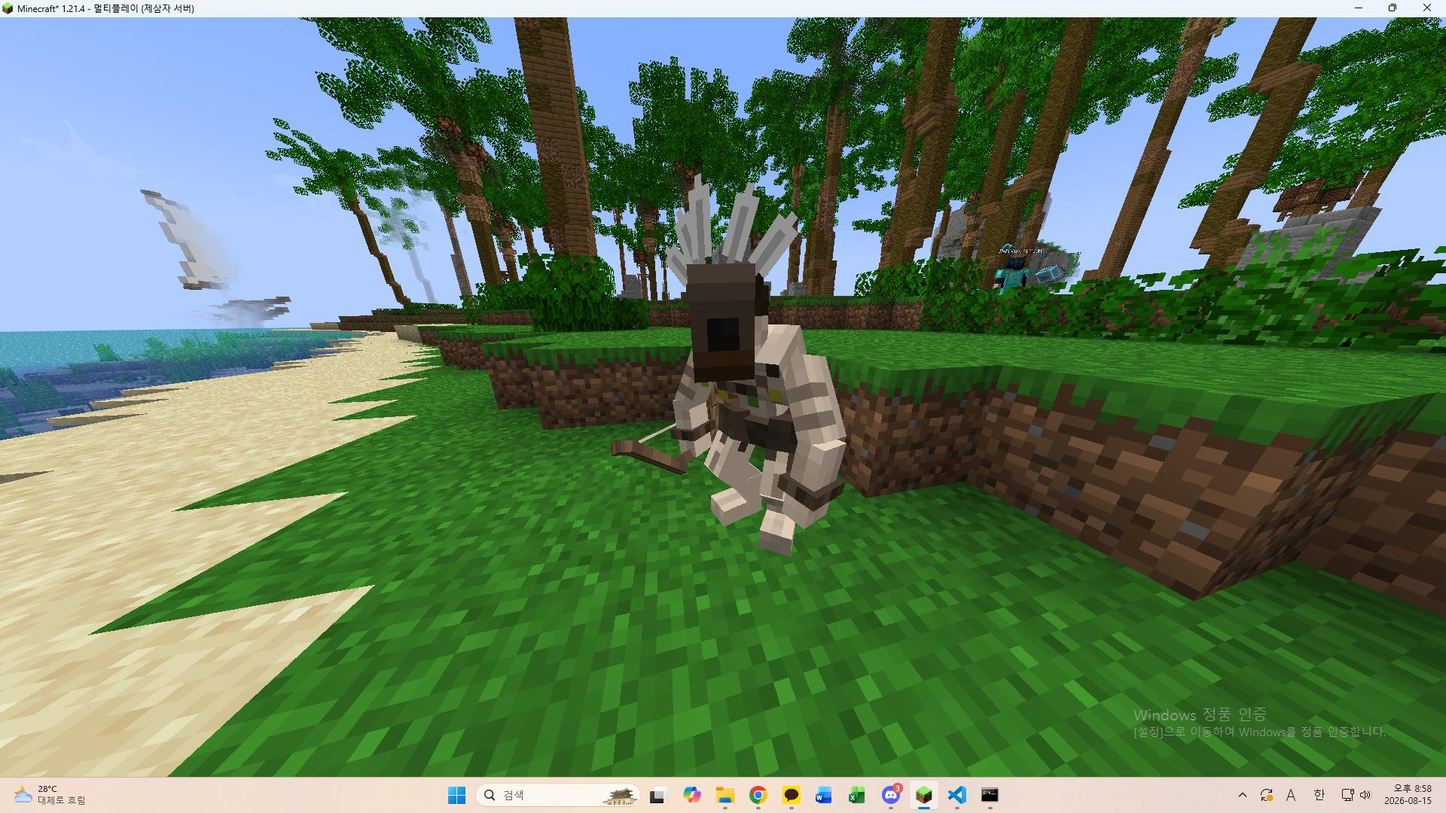bow_indian: (582, 172, 907, 599)
